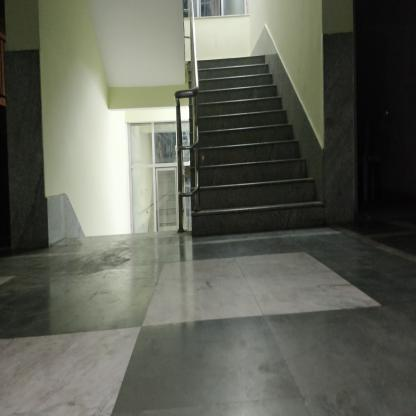stairs: (204, 55, 268, 239)
